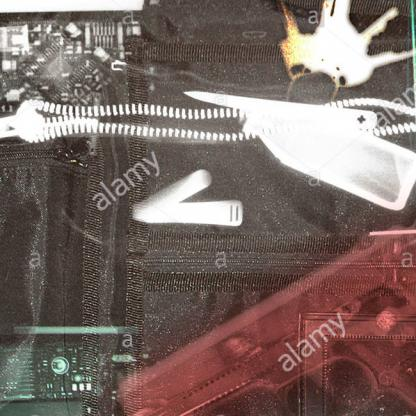gun: (110, 214, 415, 416)
